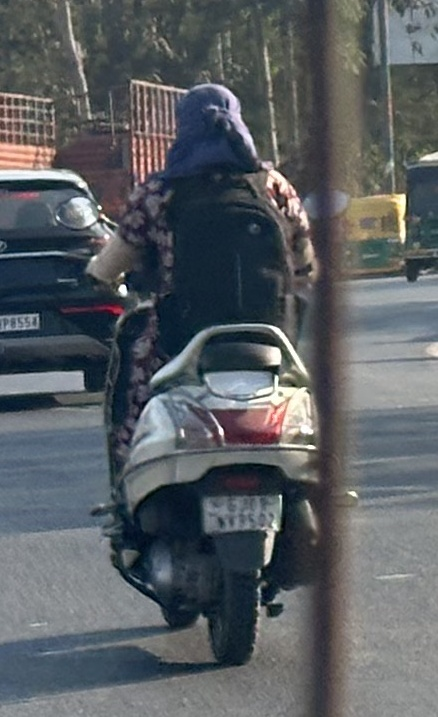BikeWithRider: (76, 74, 366, 674)
NoHelmet: (158, 77, 266, 179)
